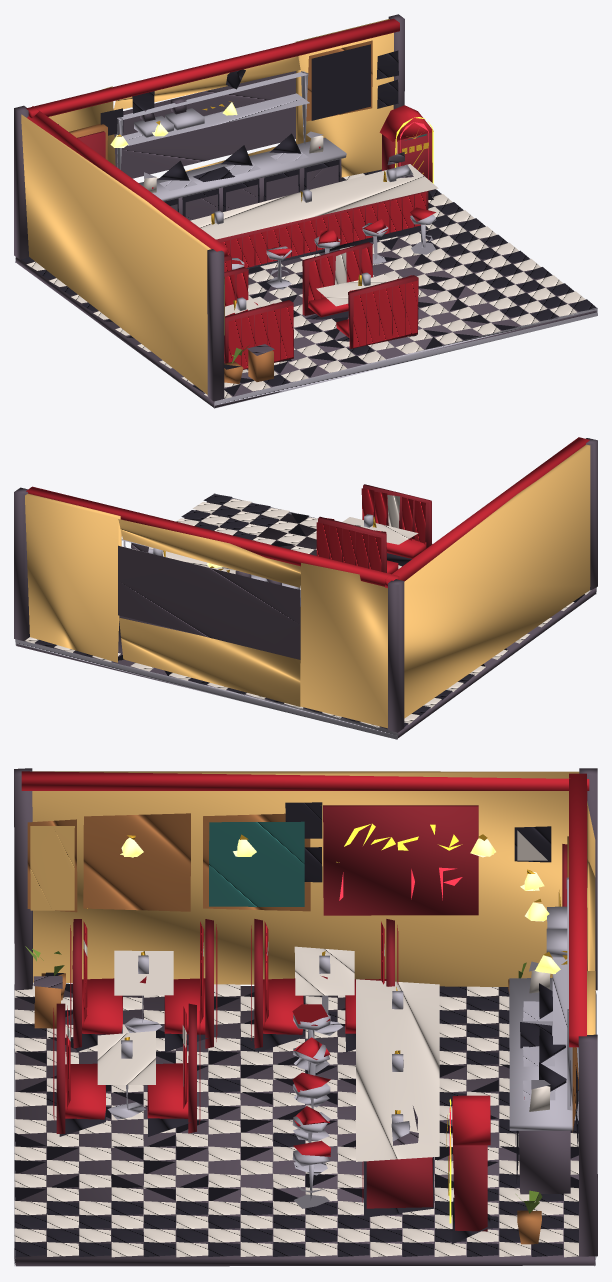
3 renders of one model, top to bottom at view 1: azimuth 30°, elevation 25°; view 2: azimuth 150°, elevation 25°; view 3: azimuth 270°, elevation 25°, orthographic. The views are drawn at different scales.
Size of the model in its own units: 10.04 by 3.87 by 9.04.
